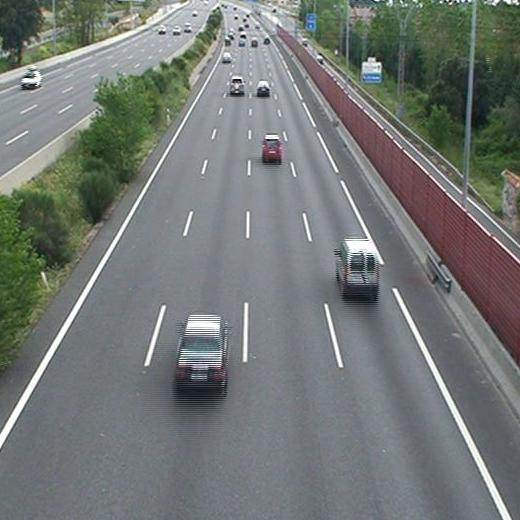car: (177, 316, 226, 383), (263, 135, 282, 160), (229, 77, 244, 93), (257, 80, 269, 94), (222, 51, 232, 61), (250, 38, 258, 48)
van: (337, 239, 378, 293)
